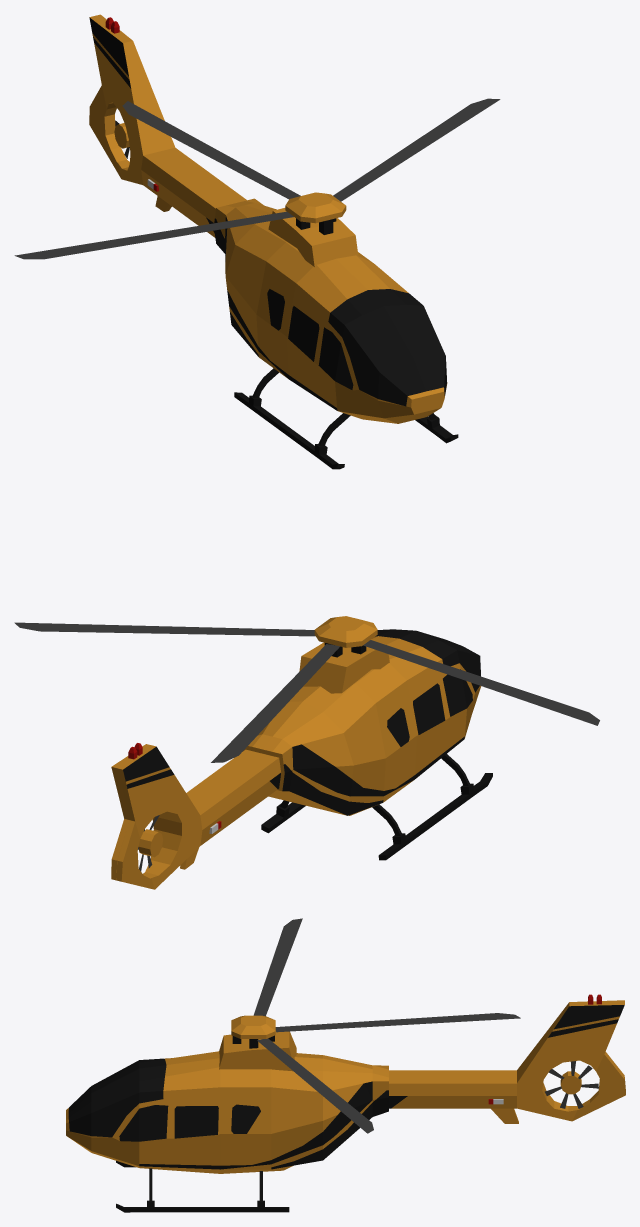
File: hilicopter.obj
3 views of the same model, one above another, from view 1: azimuth 30°, elevation 25°; view 2: azimuth 150°, elevation 25°; view 3: azimuth 270°, elevation 25° (orthographic). The views are drawn at different scales.
Visible parts, largest first — view 1: Hilicopter_Cube.1908, Cube.4829_Cube.1909, Plane.695_Plane.1437, Plane.698_Plane.1440, Plane.699_Plane.1441, Cube.4835_Cube.1912; view 2: Hilicopter_Cube.1908, Cube.4829_Cube.1909, Plane.698_Plane.1440, Plane.695_Plane.1437, Plane.699_Plane.1441, Cube.4835_Cube.1912, Circle.417_Circle.164; view 3: Hilicopter_Cube.1908, Cube.4829_Cube.1909, Plane.699_Plane.1441, Plane.698_Plane.1440, Plane.695_Plane.1437, Cube.4835_Cube.1912.
Part boxes in pixels (box(x1,y1,x2,y2)): Hilicopter_Cube.1908: box(89, 14, 458, 469); Cube.4829_Cube.1909: box(268, 208, 358, 267); Plane.695_Plane.1437: box(14, 211, 293, 259); Plane.698_Plane.1440: box(333, 98, 500, 201); Plane.699_Plane.1441: box(122, 101, 300, 199); Cube.4835_Cube.1912: box(285, 192, 346, 223); Hilicopter_Cube.1908: box(111, 629, 492, 889); Cube.4829_Cube.1909: box(299, 642, 389, 693); Plane.698_Plane.1440: box(14, 622, 315, 636); Plane.695_Plane.1437: box(363, 640, 599, 725); Plane.699_Plane.1441: box(211, 644, 339, 762); Cube.4835_Cube.1912: box(314, 616, 377, 647); Circle.417_Circle.164: box(138, 829, 162, 857); Hilicopter_Cube.1908: box(66, 1000, 625, 1212); Cube.4829_Cube.1909: box(219, 1031, 296, 1071); Plane.699_Plane.1441: box(275, 1013, 520, 1032); Plane.698_Plane.1440: box(257, 1038, 373, 1133); Plane.695_Plane.1437: box(253, 918, 302, 1016); Cube.4835_Cube.1912: box(231, 1015, 275, 1038).
Size of what is drawn, in the model's own units: 2.18 by 0.9149 by 2.61.
